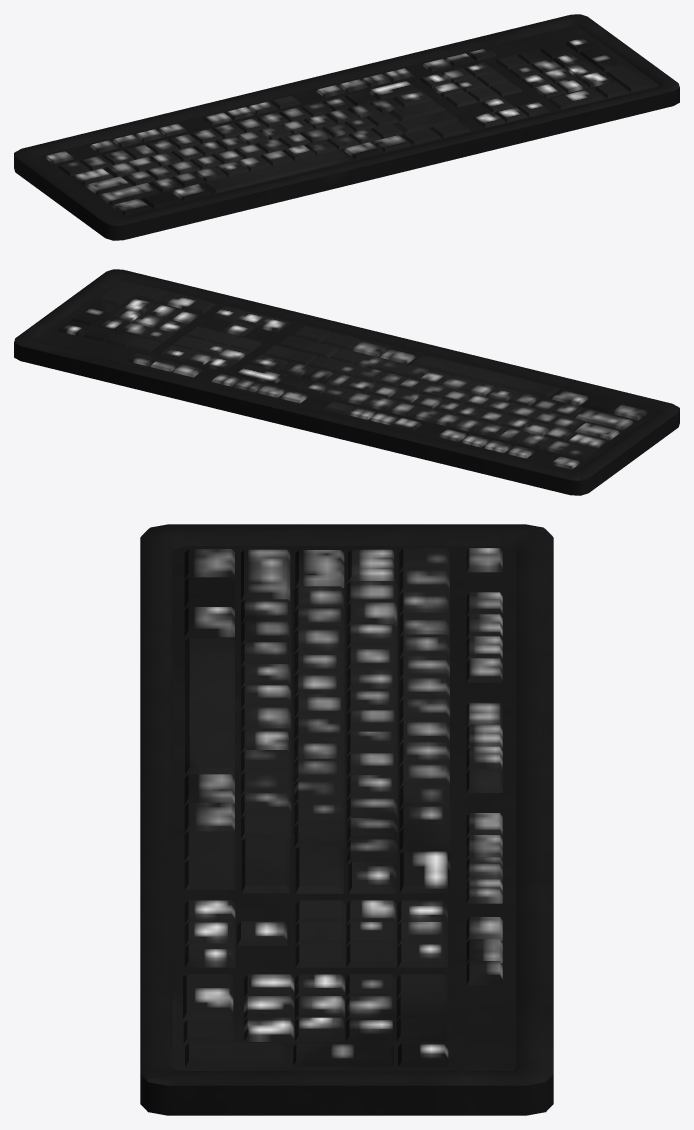
File: Keyboard_Asset.fbx
3 renders of one model, top to bottom at view 1: azimuth 30°, elevation 25°; view 2: azimuth 150°, elevation 25°; view 3: azimuth 270°, elevation 25°, orthographic. The views are drawn at different scales.
Visible parts, largest first — view 1: Keyboard; view 2: Keyboard; view 3: Keyboard.
Boxes of the visible parts, left/top/right/bottom form: Keyboard: left=14, top=14, right=679, bottom=240; Keyboard: left=14, top=269, right=679, bottom=495; Keyboard: left=140, top=524, right=553, bottom=1115.
Bounding box in the file's own units: 42.03 × 13.12 × 1.15.
1 material, 1 textured.
